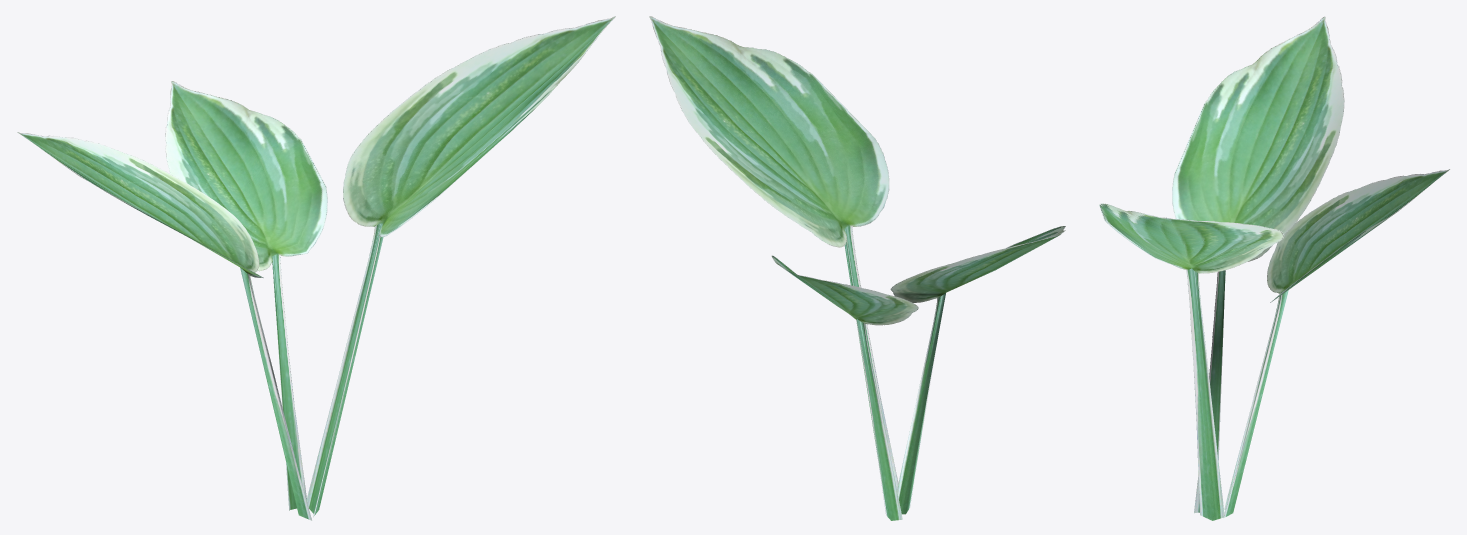
File: plant_small_wg_03C.fbx
The picture shows the model from 3 angles, left to right: view 1: azimuth 30°, elevation 25°; view 2: azimuth 150°, elevation 25°; view 3: azimuth 270°, elevation 25°; orthographic projection. The views are drawn at different scales.
Visible parts, largest first — view 1: plant_small_wg_03C; view 2: plant_small_wg_03C; view 3: plant_small_wg_03C.
Part boxes in pixels (x1=…): plant_small_wg_03C: x1=17, y1=16, x2=615, y2=520; plant_small_wg_03C: x1=649, y1=16, x2=1065, y2=520; plant_small_wg_03C: x1=1099, y1=16, x2=1449, y2=520.
Bounding box in the file's own units: 56.37 × 45.74 × 33.92.
